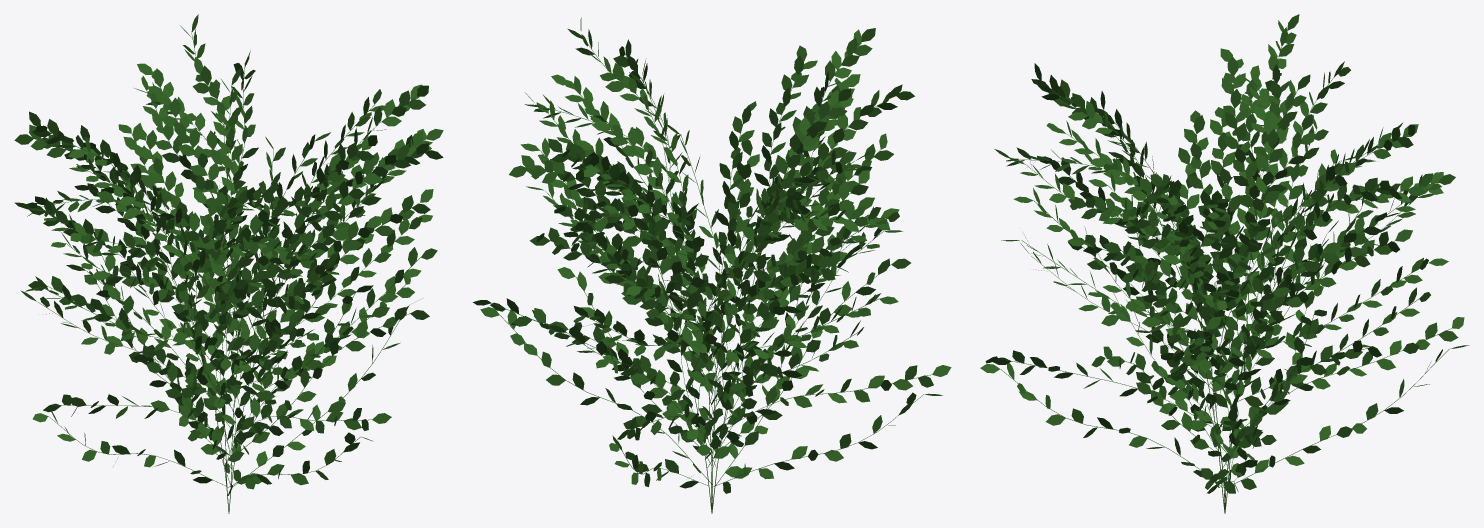
Rendered from HappyBush.fbx.
3 renders of one model, left to right at view 1: azimuth 30°, elevation 25°; view 2: azimuth 150°, elevation 25°; view 3: azimuth 270°, elevation 25°, orthographic. The views are drawn at different scales.
Parts seen in each view (by area): view 1: HappyBush; view 2: HappyBush; view 3: HappyBush.
Part boxes in pixels (box(x1,y1,x2,y2)): HappyBush: box(14, 14, 443, 513); HappyBush: box(473, 17, 951, 513); HappyBush: box(980, 14, 1469, 513).
Bounding box in the file's own units: 351 × 332 × 351.
